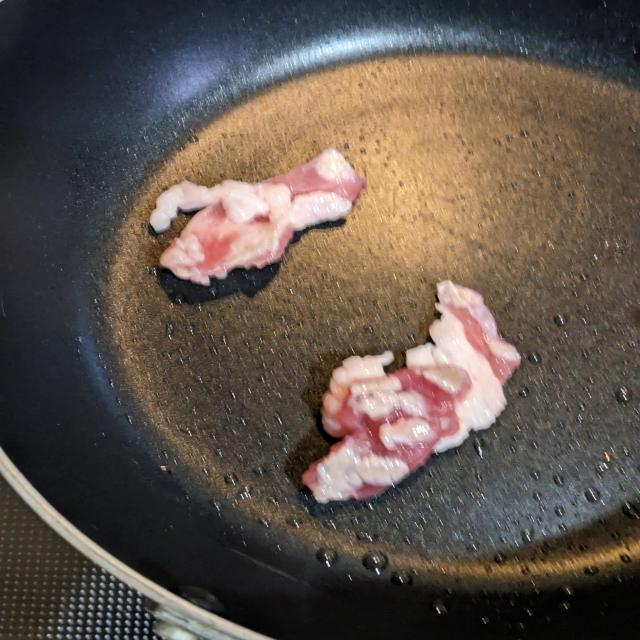NG undercooked pork,: (289, 276, 538, 511), (144, 136, 371, 304)
